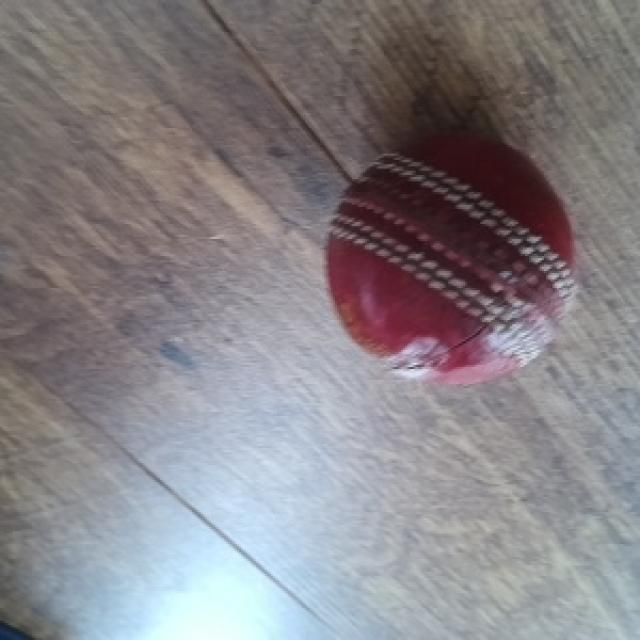ball: (322, 134, 576, 390)
